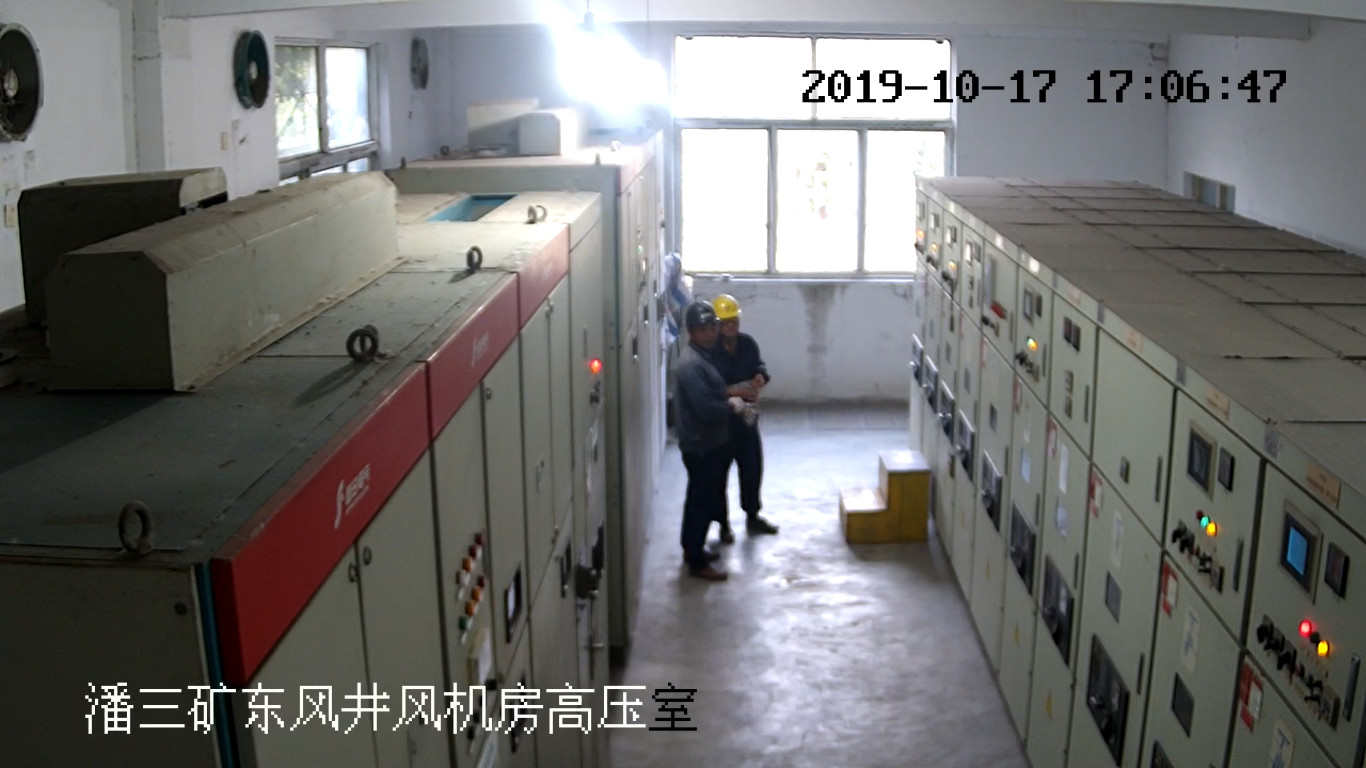helmet: (686, 300, 721, 330), (709, 294, 741, 318)
